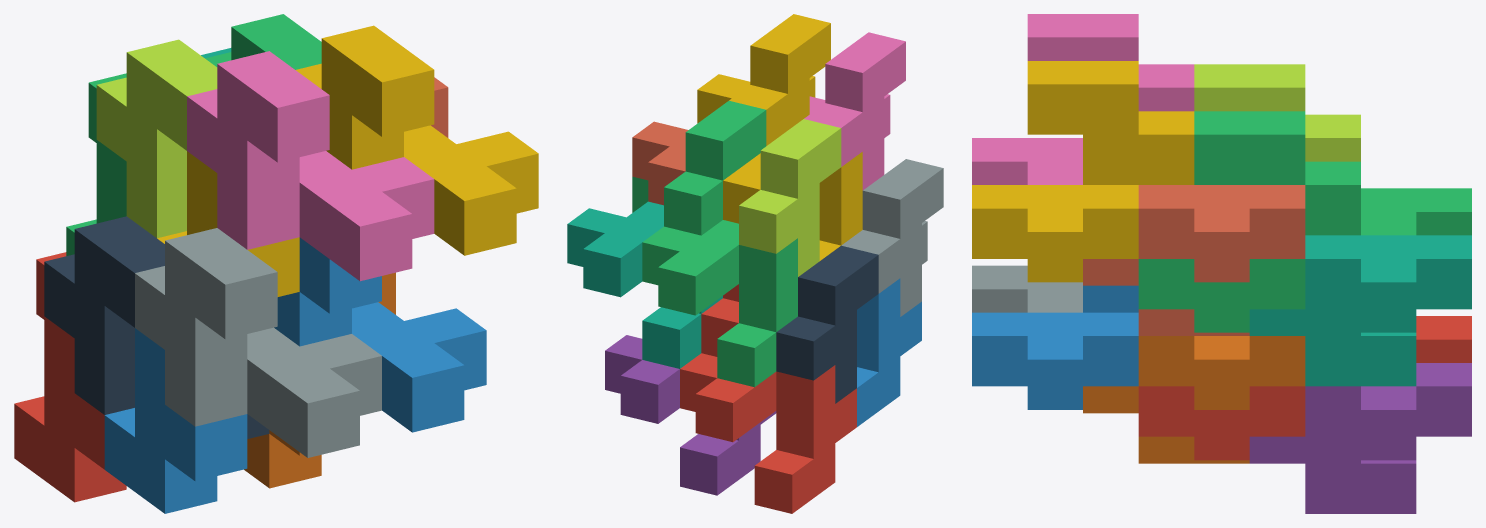
Rendered from tiling.obj.
3 renders of one model, left to right at view 1: azimuth 30°, elevation 25°; view 2: azimuth 150°, elevation 25°; view 3: azimuth 270°, elevation 25°, orthographic. The views are drawn at different scales.
Visible parts, largest first — view 1: copy_2_domain_4, copy_2_domain_2, copy_2_domain_8, copy_2_domain_6, copy_2_domain_1, copy_2_domain_3, copy_1_domain_2, copy_1_domain_1, copy_1_domain_4, copy_2_domain_7, copy_1_domain_6, copy_1_domain_3 (+1 smaller); view 2: copy_1_domain_1, copy_1_domain_3, copy_2_domain_3, copy_2_domain_1, copy_1_domain_7, copy_2_domain_8, copy_2_domain_4, copy_1_domain_5, copy_2_domain_2, copy_2_domain_7, copy_1_domain_2, copy_1_domain_4 (+2 smaller); view 3: copy_2_domain_8, copy_1_domain_7, copy_2_domain_7, copy_1_domain_5, copy_1_domain_8, copy_2_domain_6, copy_1_domain_6, copy_2_domain_4, copy_2_domain_5, copy_2_domain_3, copy_1_domain_3, copy_2_domain_2 (+1 smaller).
Boxes of the visible parts, x1,y1,x2,y2 form: copy_2_domain_4: (187,51,434,281); copy_2_domain_2: (135,228,381,457); copy_2_domain_8: (296,25,538,255); copy_2_domain_6: (274,237,486,432); copy_2_domain_1: (44,216,269,438); copy_2_domain_3: (96,39,217,238); copy_1_domain_2: (104,328,247,513); copy_1_domain_1: (14,252,126,502); copy_1_domain_4: (157,151,299,296); copy_2_domain_7: (205,14,321,69); copy_1_domain_6: (244,272,395,488); copy_1_domain_3: (66,73,126,255); copy_1_domain_1: (680,353,856,513); copy_1_domain_3: (642,220,797,387); copy_2_domain_3: (739,119,841,276); copy_2_domain_1: (776,245,878,403); copy_1_domain_7: (567,201,722,368); copy_2_domain_8: (697,14,830,145); copy_2_domain_4: (804,32,905,190); copy_1_domain_5: (605,335,776,495); copy_2_domain_2: (841,159,943,316); copy_2_domain_7: (632,100,766,235); copy_1_domain_2: (857,278,921,426); copy_1_domain_4: (723,152,862,260); copy_2_domain_8: (972,61,1194,282); copy_1_domain_7: (1249,235,1471,386); copy_2_domain_7: (1138,111,1360,332); copy_1_domain_5: (1249,363,1471,513); copy_1_domain_8: (1083,185,1305,335); copy_2_domain_6: (972,285,1138,409); copy_1_domain_6: (1083,336,1305,463); copy_2_domain_4: (972,14,1194,184); copy_2_domain_5: (1138,386,1305,460); copy_2_domain_3: (1194,64,1360,161); copy_1_domain_3: (1361,188,1471,235); copy_2_domain_2: (972,265,1082,312).
Bounding box in the file's own units: 6 × 9 × 9.
